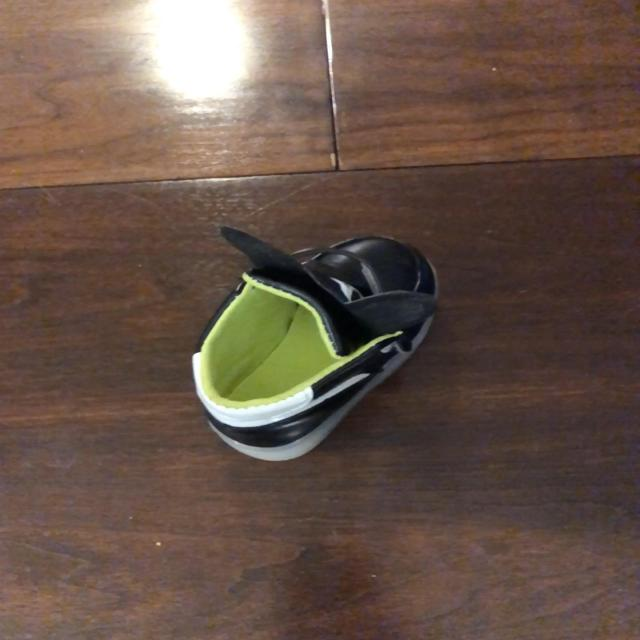shoe: (190, 233, 432, 464)
